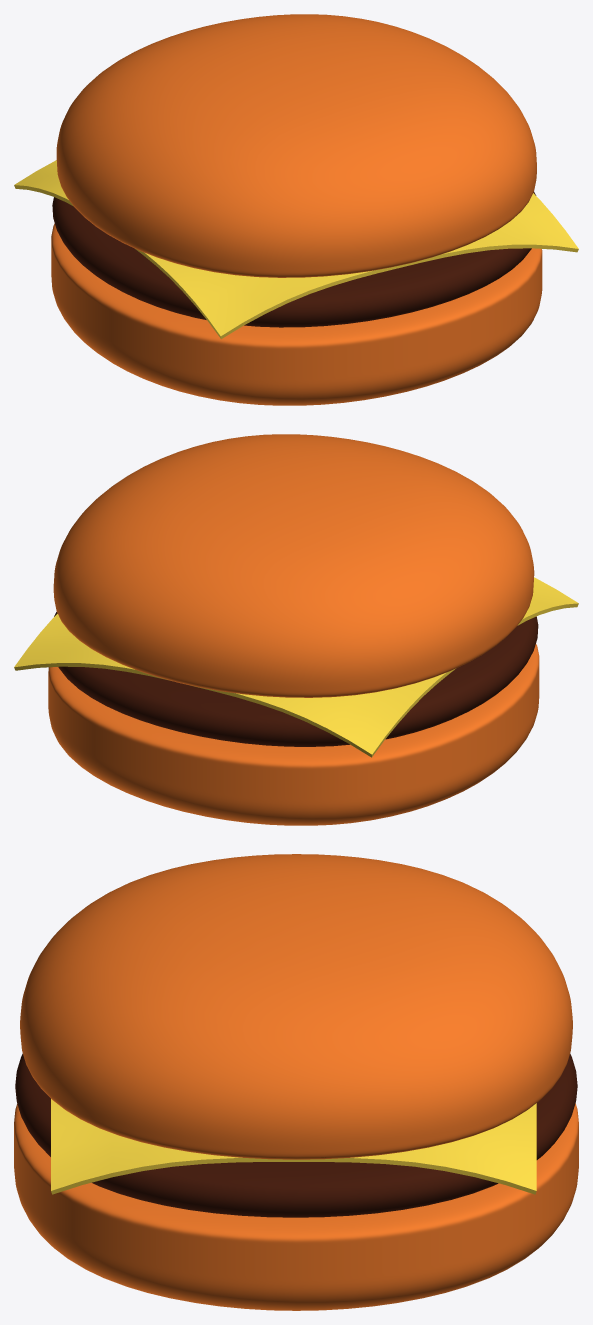
File: hamburger.glb
The picture shows the model from 3 angles, top to bottom: view 1: azimuth 30°, elevation 25°; view 2: azimuth 150°, elevation 25°; view 3: azimuth 270°, elevation 25°; orthographic projection. The views are drawn at different scales.
Parts seen in each view (by area): view 1: Cube.002, Cube, Cube.001, Plane; view 2: Cube.002, Cube, Cube.001, Plane; view 3: Cube.002, Cube, Cube.001, Plane.
Part boxes in pixels (x1,y1,x2,y2): Cube.002: (56, 14, 536, 277); Cube: (51, 223, 542, 405); Cube.001: (52, 192, 536, 327); Plane: (14, 160, 578, 339); Cube.002: (53, 434, 534, 697); Cube: (48, 644, 539, 825); Cube.001: (54, 612, 538, 746); Plane: (14, 577, 578, 757); Cube.002: (20, 854, 572, 1159); Cube: (14, 1103, 578, 1310); Cube.001: (15, 1053, 577, 1217); Plane: (51, 1099, 536, 1194).
Bounding box in the file's own units: 8.96 × 5.55 × 8.96.
